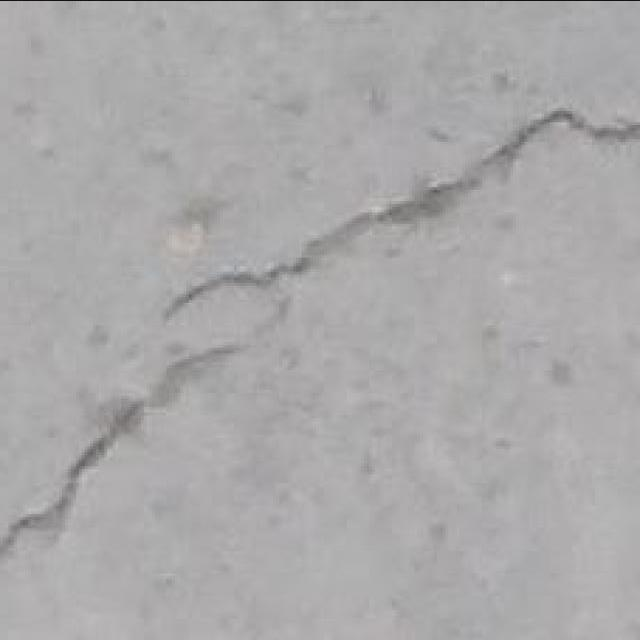Crack: (2, 103, 637, 556)
